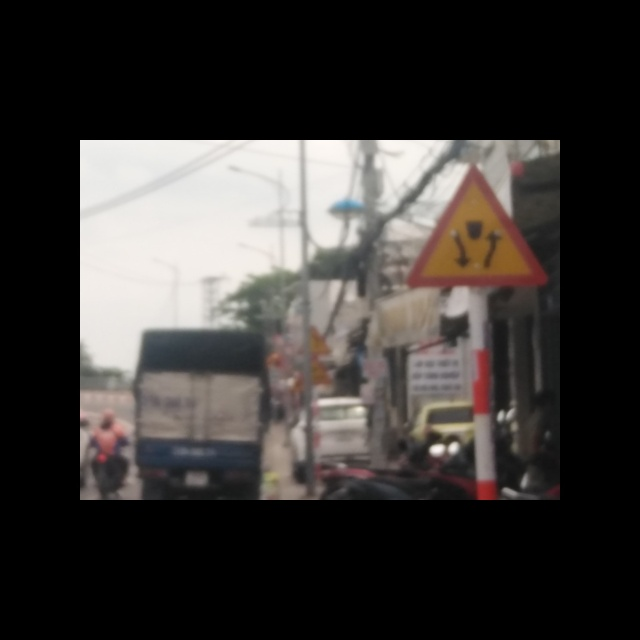Đường đôi: (406, 162, 547, 289)
